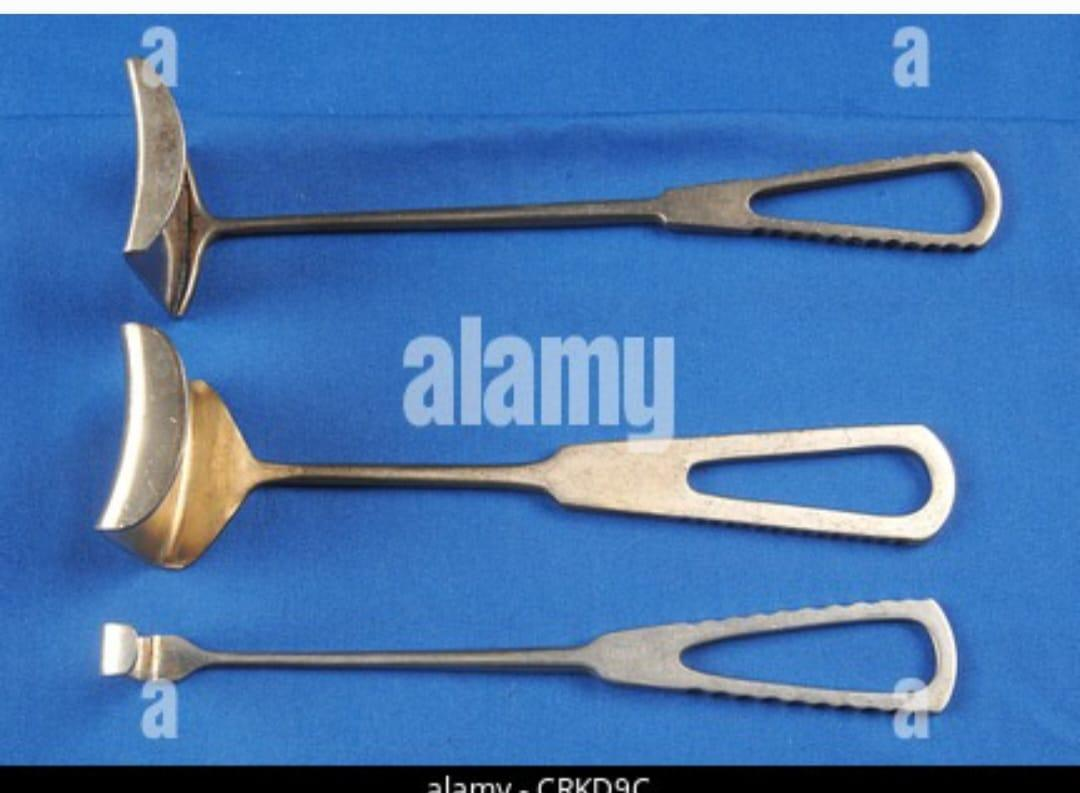Morris Retractor: (111, 35, 1014, 326), (84, 320, 966, 575)
